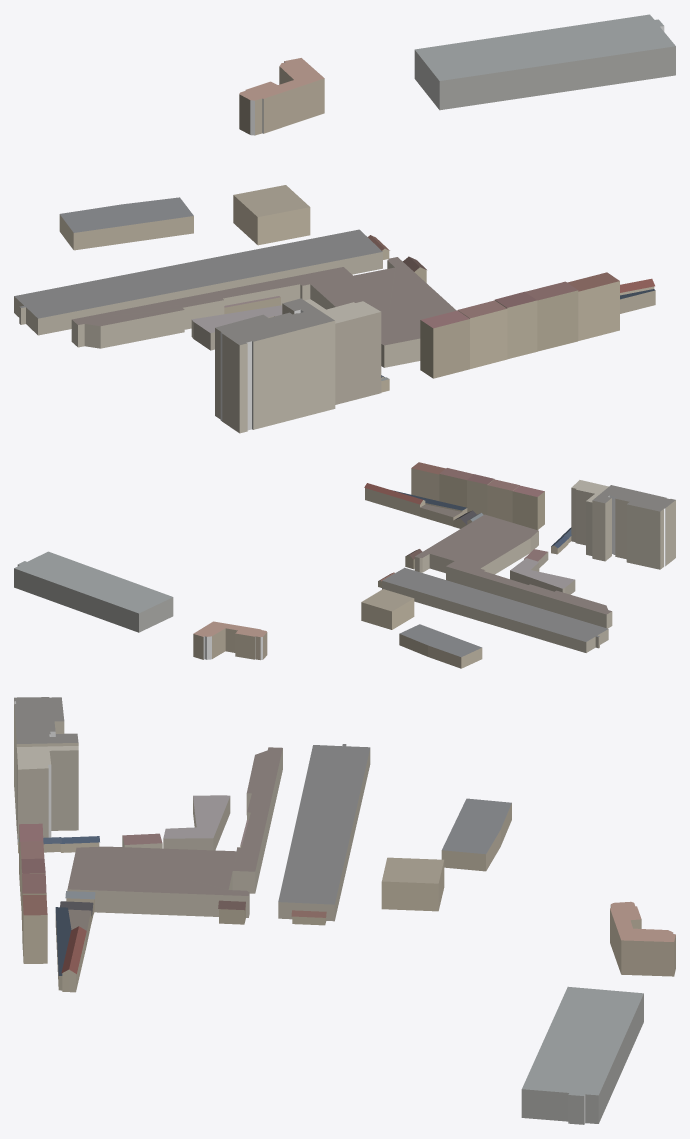
3 views of the same model, one above another, from view 1: azimuth 30°, elevation 25°; view 2: azimuth 150°, elevation 25°; view 3: azimuth 270°, elevation 25° (orthographic). The views are drawn at different scales.
Visible parts, largest first — view 1: tuile; view 2: tuile; view 3: tuile.
Part boxes in pixels (box(x1,y1,x2,y2)): tuile: box(14, 14, 675, 433); tuile: box(14, 462, 675, 668); tuile: box(14, 697, 675, 1124).
Bounding box in the file's own units: 335 × 37.68 × 256.
